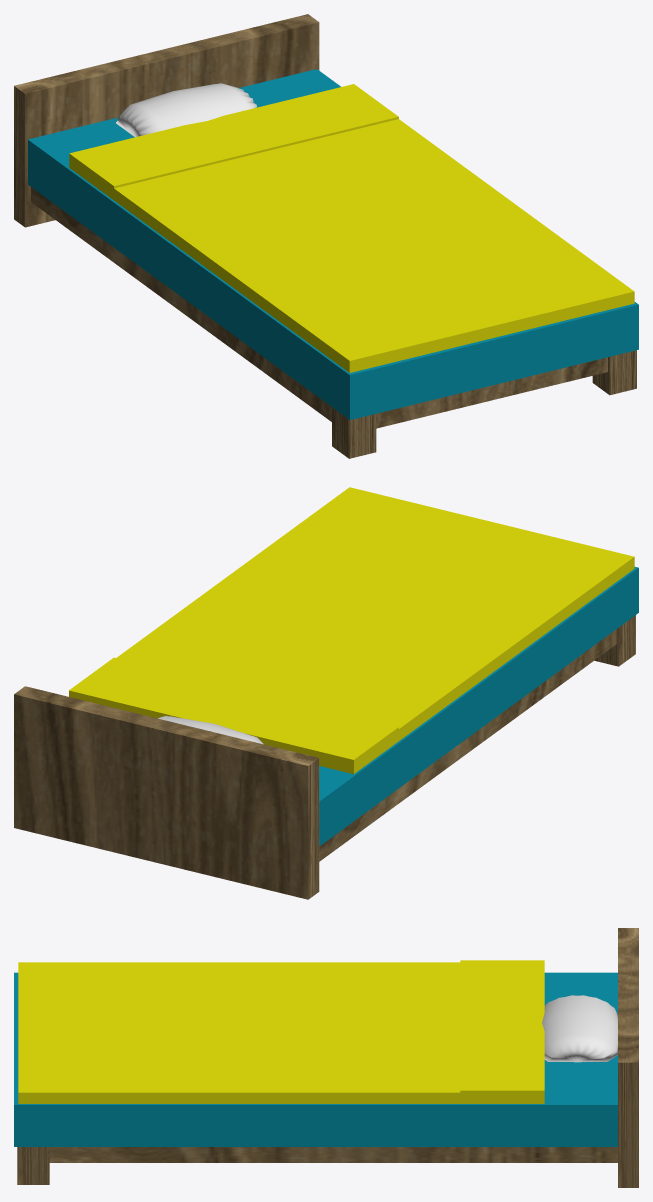
Rendered from Bed Ultimate.fbx.
3 renders of one model, top to bottom at view 1: azimuth 30°, elevation 25°; view 2: azimuth 150°, elevation 25°; view 3: azimuth 270°, elevation 25°, orthographic. The views are drawn at different scales.
Parts seen in each view (by area): view 1: polySurface42, polySurface38, polySurface46, polySurface39, pCylinder93, pCube63, pCube62; view 2: polySurface42, polySurface46, polySurface38, polySurface39, pCube63, pCylinder93; view 3: polySurface42, polySurface38, polySurface39, polySurface46, pCylinder93, pCube62.
Part boxes in pixels (bbox=[...]): polySurface42: bbox=[69, 84, 634, 372]; polySurface38: bbox=[28, 69, 638, 419]; polySurface46: bbox=[14, 14, 319, 227]; polySurface39: bbox=[31, 187, 607, 428]; pCylinder93: bbox=[116, 83, 256, 137]; pCube63: bbox=[332, 407, 376, 458]; pCube62: bbox=[592, 350, 636, 395]; polySurface42: bbox=[69, 487, 634, 774]; polySurface46: bbox=[14, 686, 319, 899]; polySurface38: bbox=[319, 567, 638, 846]; polySurface39: bbox=[319, 629, 616, 861]; pCube63: bbox=[594, 615, 635, 666]; pCylinder93: bbox=[157, 716, 263, 744]; polySurface42: bbox=[18, 960, 544, 1103]; polySurface38: bbox=[14, 972, 617, 1146]; polySurface39: bbox=[49, 1147, 617, 1162]; polySurface46: bbox=[618, 928, 638, 1187]; pCylinder93: bbox=[542, 995, 617, 1062]; pCube62: bbox=[17, 1147, 49, 1184].
Size of the model in its own units: 5.41 by 2.35 by 10.62.
Materials: 4 (1 with a texture image).
